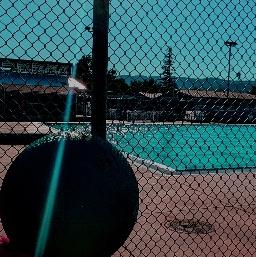algae: (0, 132, 140, 257)
